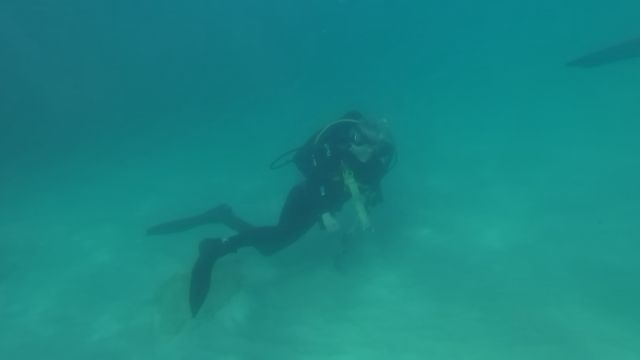Diver: (136, 90, 413, 322)
